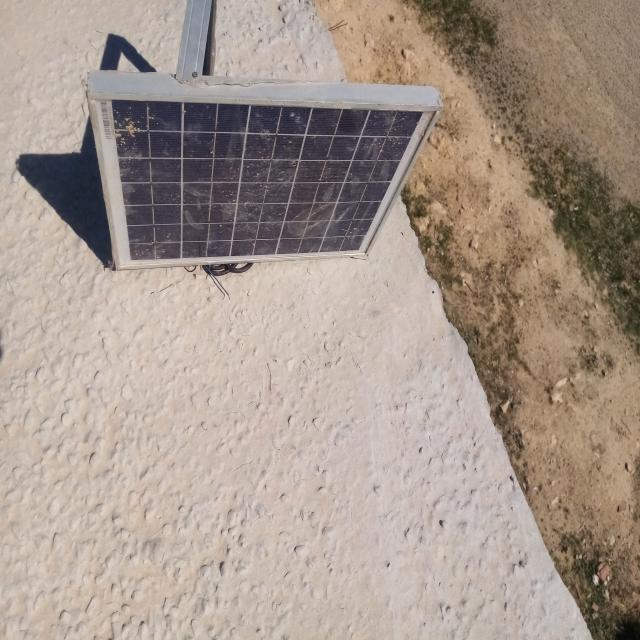faulty: (89, 94, 442, 270)
